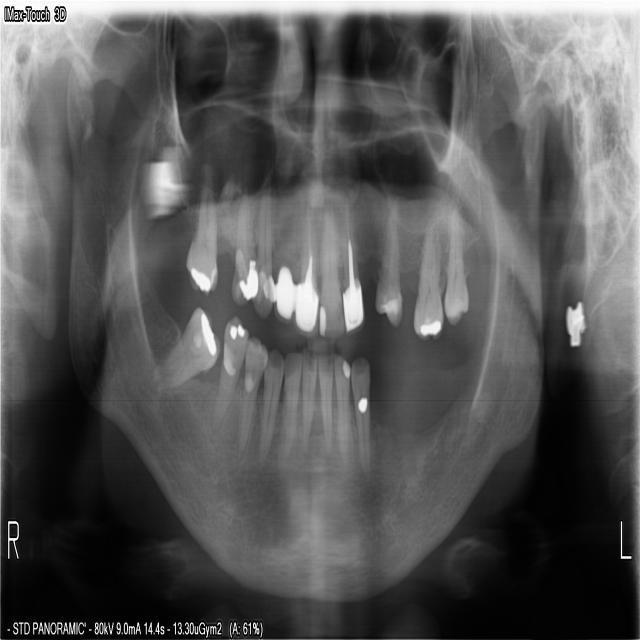LCD: (349, 350, 371, 494)
LID: (332, 346, 349, 476), (316, 347, 333, 459)
LIU: (316, 184, 344, 339), (339, 189, 364, 337)
LMU: (410, 198, 443, 338), (442, 200, 470, 327)
LPMU: (371, 197, 404, 329)
RCD: (254, 344, 285, 474)
RCU: (248, 169, 274, 322)
RID: (277, 348, 300, 461), (298, 343, 317, 453)
RIU: (271, 173, 300, 326), (291, 194, 319, 337)
RMD: (162, 303, 221, 394)
RPMD: (208, 311, 250, 432), (233, 332, 269, 464)
RPMU: (182, 147, 219, 298), (228, 168, 258, 308)
